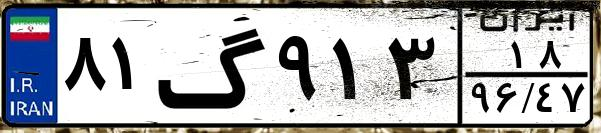1: (330, 28, 385, 110), (110, 28, 156, 98), (508, 27, 537, 80)
3: (385, 28, 445, 110)
4: (535, 70, 560, 125)
6: (495, 70, 520, 125)
7: (560, 70, 590, 125)
8: (57, 26, 110, 100), (537, 27, 568, 80)
9: (270, 28, 330, 110), (470, 70, 495, 125)
گ: (156, 12, 270, 120)
